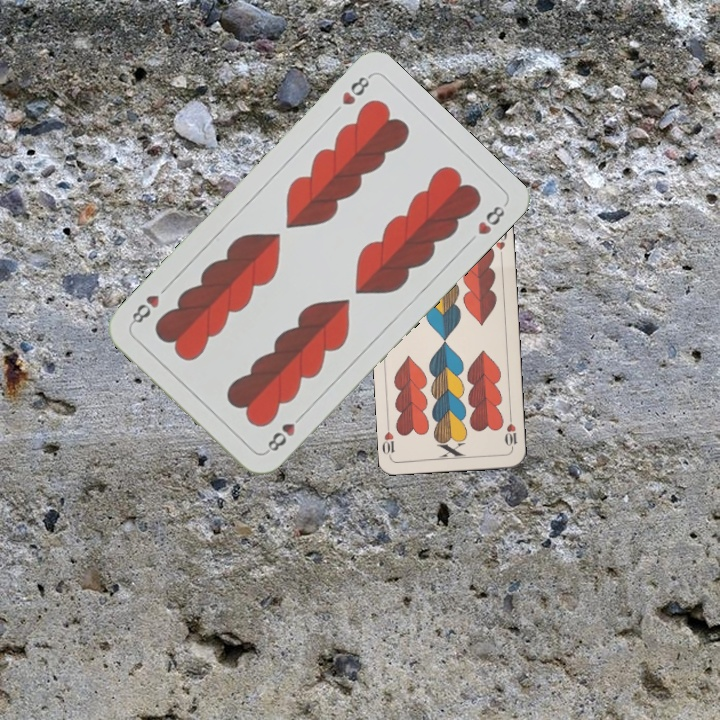H10: (501, 411, 520, 452)
H8: (261, 409, 307, 456), (337, 71, 373, 108)
